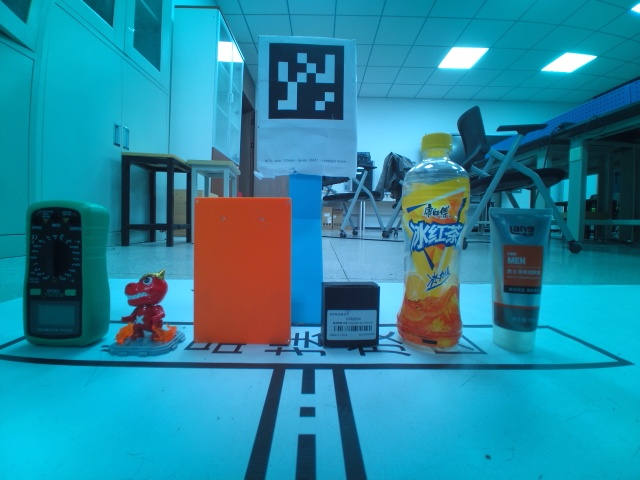banzi: (319, 281, 380, 350)
binghongcha: (112, 269, 185, 357)
dabao: (487, 206, 552, 357)
dianbiao: (396, 131, 468, 353)
hezi: (22, 200, 109, 348)
long: (193, 196, 292, 346)
